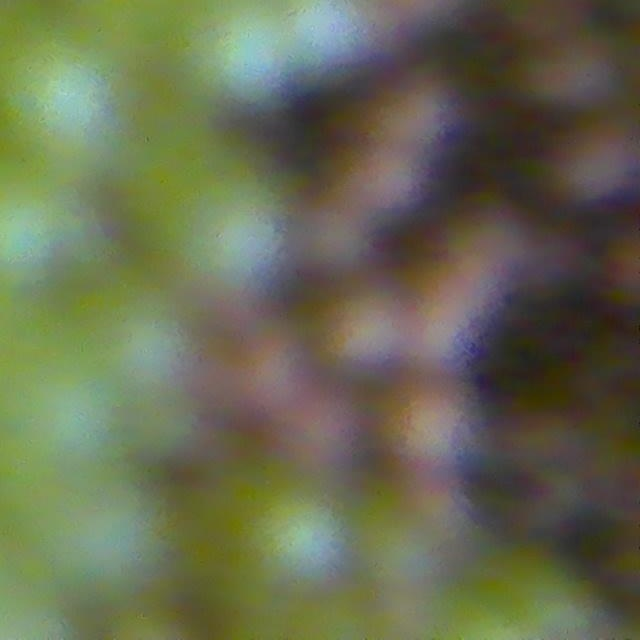SeaGrape: (36, 471, 176, 608), (162, 159, 291, 298), (0, 10, 124, 150), (240, 475, 355, 594), (84, 276, 196, 396), (191, 0, 305, 113), (320, 288, 416, 384), (546, 124, 640, 215), (377, 389, 472, 475), (365, 512, 447, 594), (237, 335, 316, 416), (369, 80, 453, 155), (342, 150, 421, 217), (286, 412, 365, 469), (307, 195, 369, 264)
